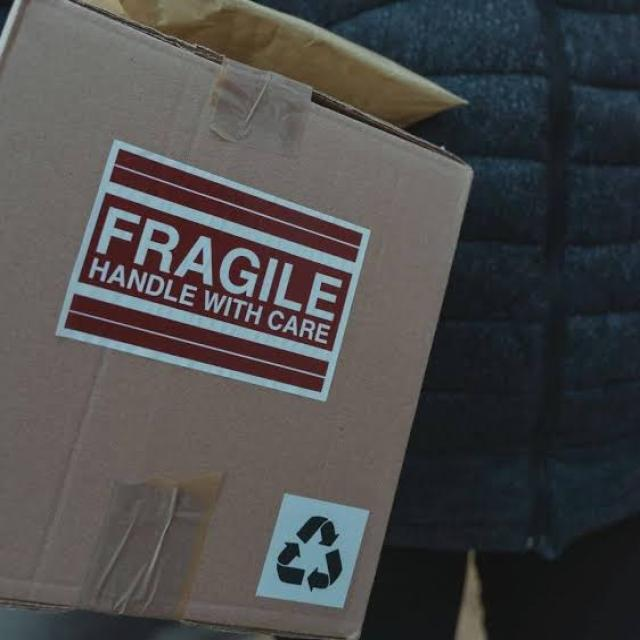carton_box: (1, 0, 498, 640)
fragile_label: (65, 121, 380, 413)
